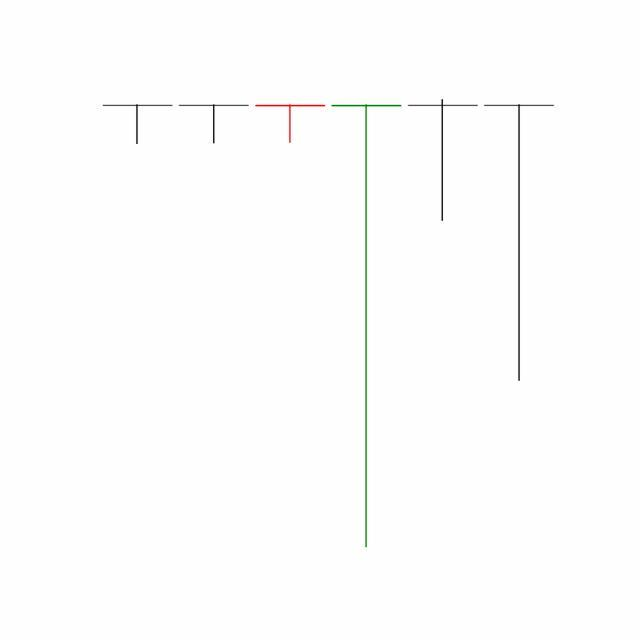Dragonfly Doji: (404, 98, 482, 224)
